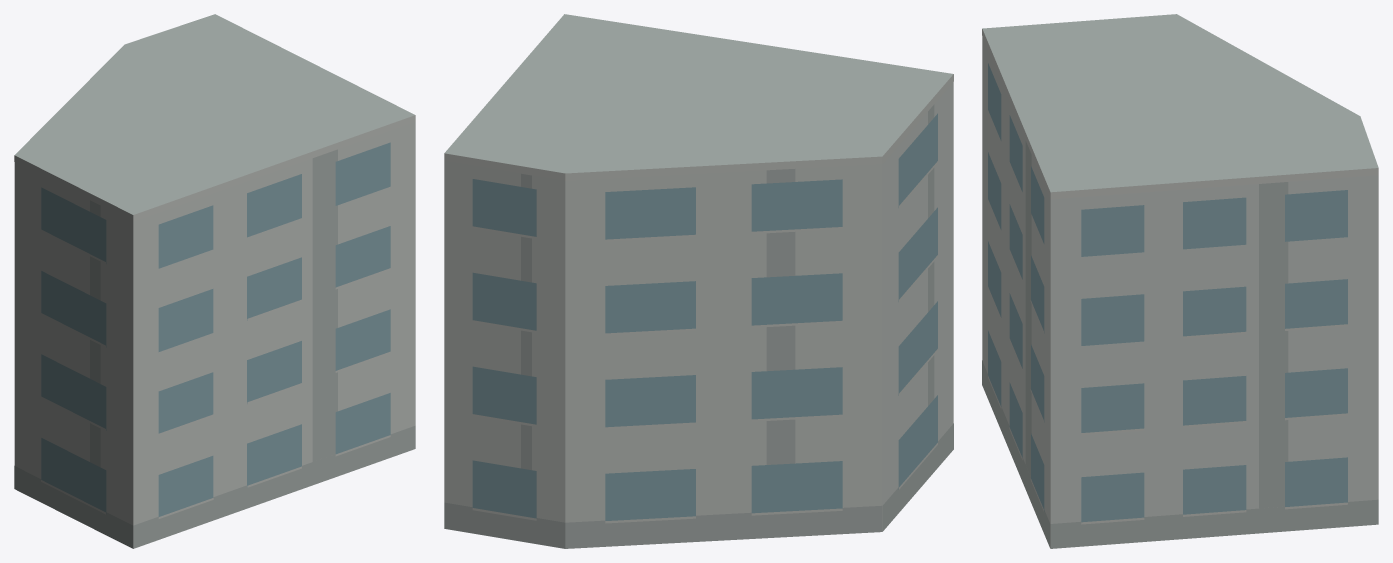
File: residential-c3843dff-2846-49be-bdc8-c00fa26dd20c.glb
The picture shows the model from 3 angles, left to right: view 1: azimuth 30°, elevation 25°; view 2: azimuth 150°, elevation 25°; view 3: azimuth 270°, elevation 25°; orthographic projection. The views are drawn at different scales.
Parts seen in each view (by area): view 1: residential-c3843dff-2846-49be-bdc8-c00fa26dd20c.tmp; view 2: residential-c3843dff-2846-49be-bdc8-c00fa26dd20c.tmp; view 3: residential-c3843dff-2846-49be-bdc8-c00fa26dd20c.tmp.
Boxes of the visible parts, x1,y1,x2,y2 form: residential-c3843dff-2846-49be-bdc8-c00fa26dd20c.tmp: (14,14,415,548); residential-c3843dff-2846-49be-bdc8-c00fa26dd20c.tmp: (444,14,953,548); residential-c3843dff-2846-49be-bdc8-c00fa26dd20c.tmp: (982,14,1378,548).
Bounding box in the file's own units: 12.87 × 12 × 12.1.
